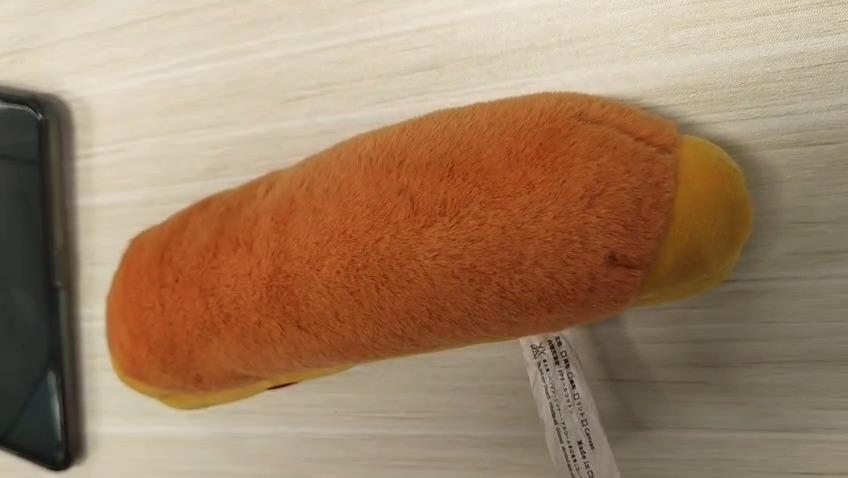hotdog: (106, 93, 755, 412)
